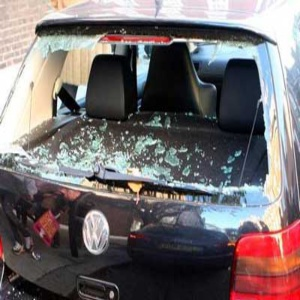rear_windshield_glass: (27, 42, 265, 193)
